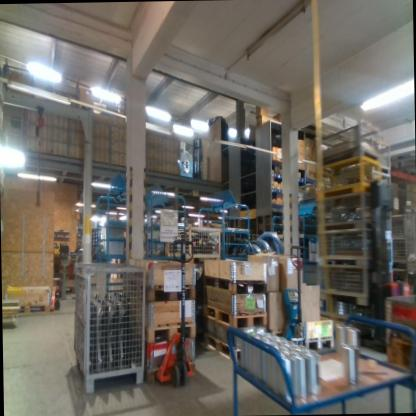pallet: (203, 296, 268, 329), (202, 268, 269, 296), (203, 332, 242, 367), (146, 319, 197, 344), (146, 361, 196, 384), (147, 285, 196, 303), (305, 334, 334, 352), (5, 301, 50, 312)
pallet_truck: (152, 233, 199, 383), (278, 246, 308, 356), (50, 241, 63, 313)
stillage: (71, 258, 149, 393), (318, 151, 392, 201), (320, 124, 393, 173), (322, 188, 392, 233), (324, 227, 390, 270), (314, 255, 367, 305), (166, 222, 219, 259)
